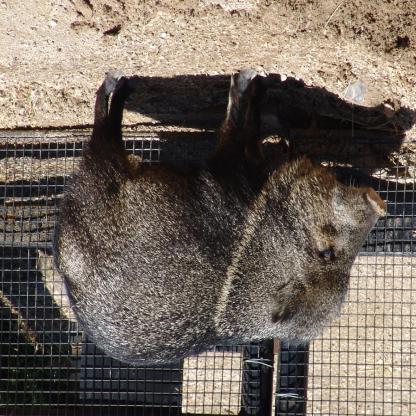boar: (51, 68, 387, 367)
